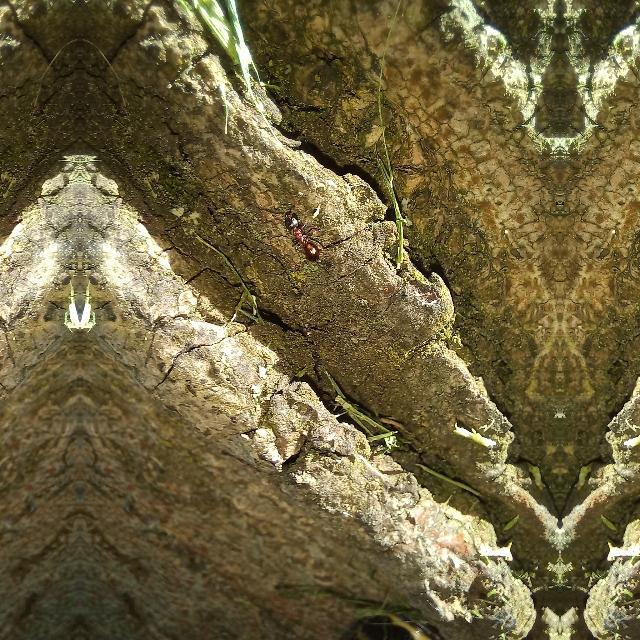Dolichoderus: (275, 194, 329, 266)
